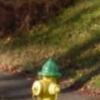a fire hydrant: (32, 58, 62, 100)
